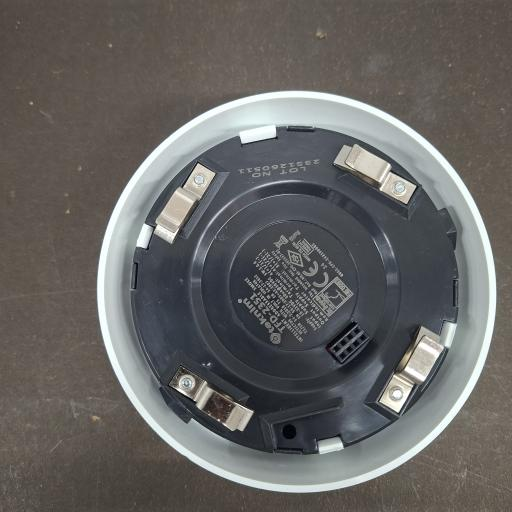yayli: (378, 326, 446, 413), (168, 366, 253, 431), (334, 144, 417, 204), (155, 163, 216, 244)
